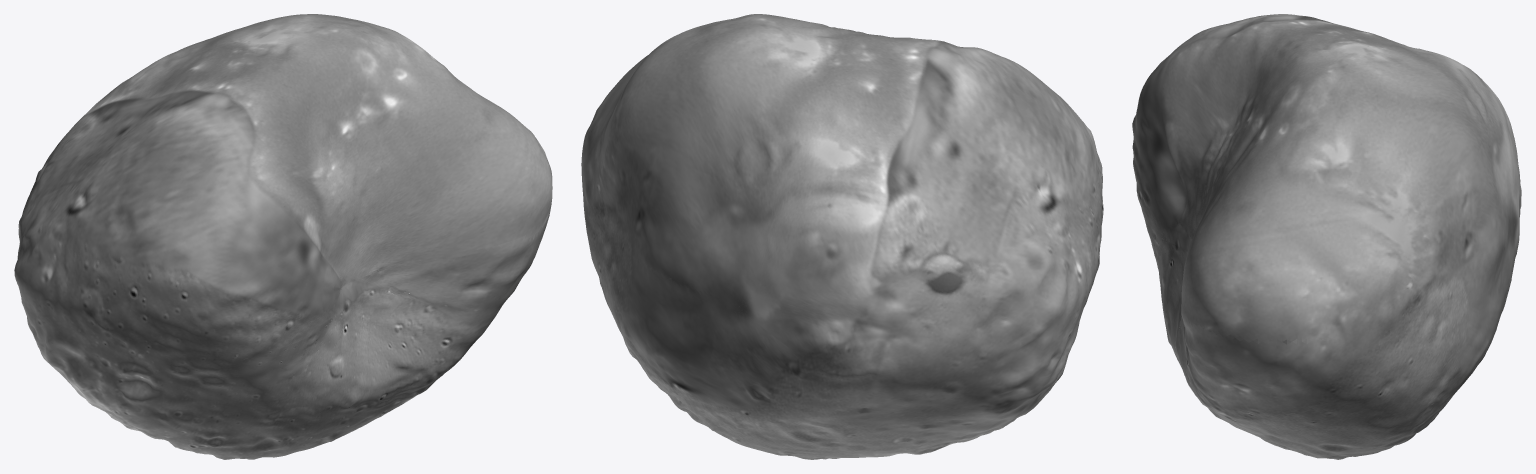
The model's file is deimos.glb.
3 views of the same model, side by side, from view 1: azimuth 30°, elevation 25°; view 2: azimuth 150°, elevation 25°; view 3: azimuth 270°, elevation 25° (orthographic). The views are drawn at different scales.
Visible parts, largest first — view 1: Deimos; view 2: Deimos; view 3: Deimos.
Part boxes in pixels (x1,y1,x2,y2): Deimos: (14,14,552,459); Deimos: (581,14,1103,459); Deimos: (1132,14,1521,459).
Size of the model in its own units: 1543 by 1226 by 1081.
Materials: 1 (1 with a texture image).
